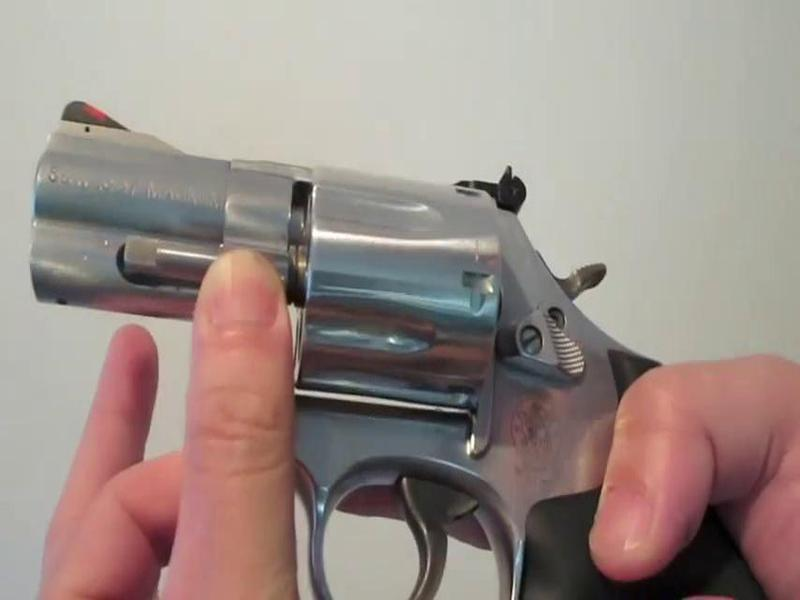Revolver: (15, 84, 697, 565)
